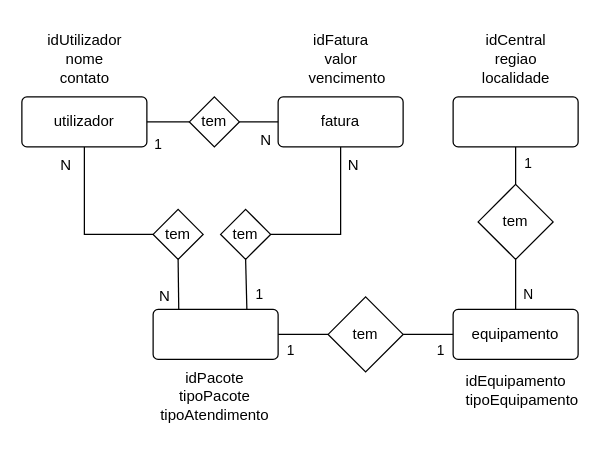
This 613x455 diagram has some shape labels left out. Here are the shapes that lost their labels. From the top down, the centre of each, then its label:
(x=515, y=121): central
(x=215, y=333): pacote
